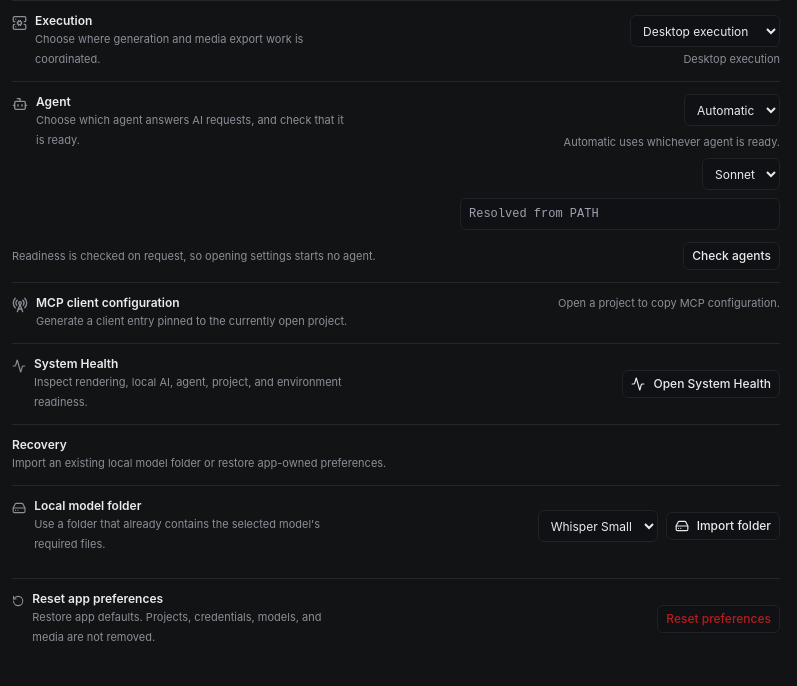
Test case: AdvancedSettings › labels a native import failure without offering status-only retry
Click the button with aria-label "Import Whisper Small from folder". click: (723,526)
box: [666,512,780,540]
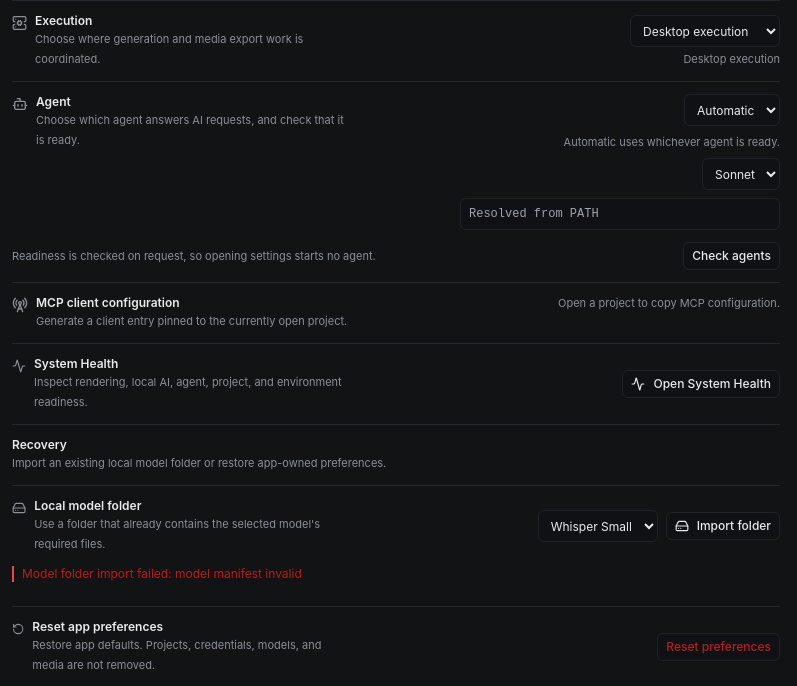
Expected: the message reads "Model folder import failed: model manifest invalid", [12,566,780,582]
